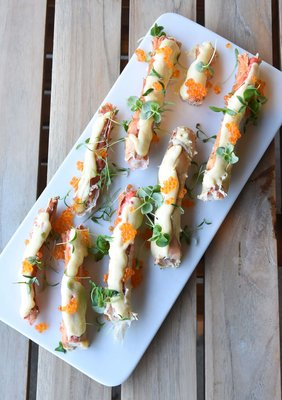sandwich: (202, 137, 279, 398)
